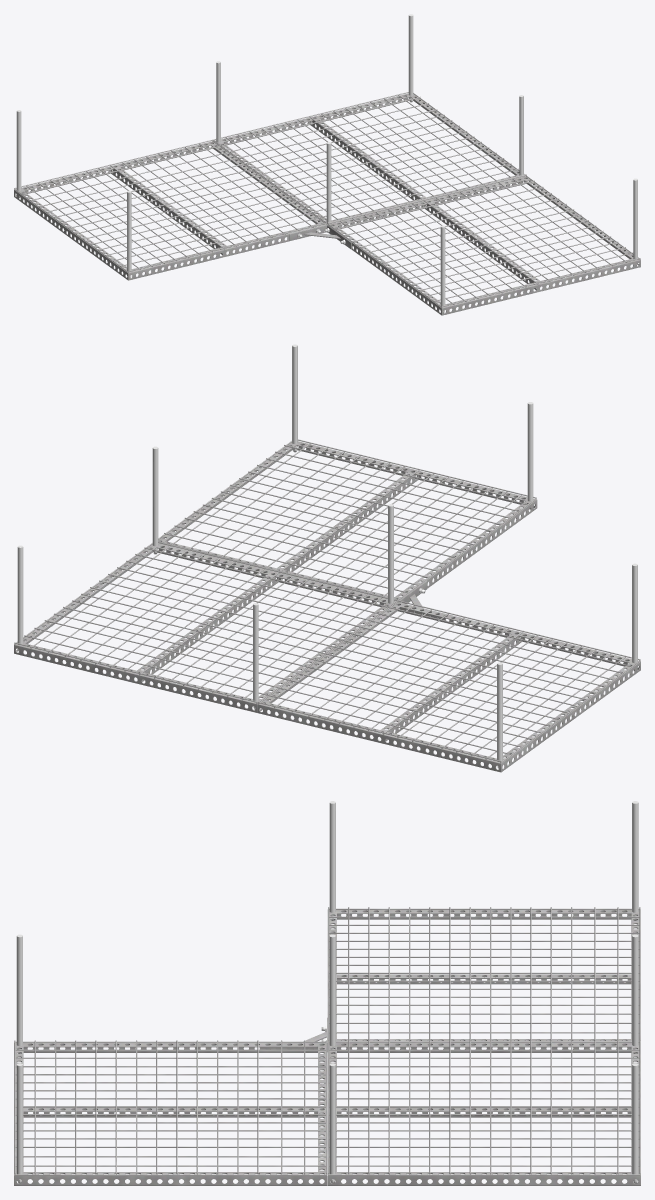
File: PTL12.glb
The picture shows the model from 3 angles, top to bottom: view 1: azimuth 30°, elevation 25°; view 2: azimuth 150°, elevation 25°; view 3: azimuth 270°, elevation 25°; orthographic projection. The views are drawn at different scales.
Visible parts, largest first — view 1: Shelf.002, Plane010.002; view 2: Shelf.002, Plane010.002; view 3: Shelf.002, Plane010.002.
Part boxes in pixels (bbox=[...]): Shelf.002: bbox=[14, 92, 640, 315]; Plane010.002: bbox=[16, 14, 637, 313]; Shelf.002: bbox=[14, 439, 640, 772]; Plane010.002: bbox=[17, 344, 637, 769]; Shelf.002: bbox=[14, 907, 640, 1185]; Plane010.002: bbox=[16, 801, 638, 1183].
Bounding box in the file's own units: 62.24 × 12.97 × 61.88.
Materials: 2 (2 with a texture image).
